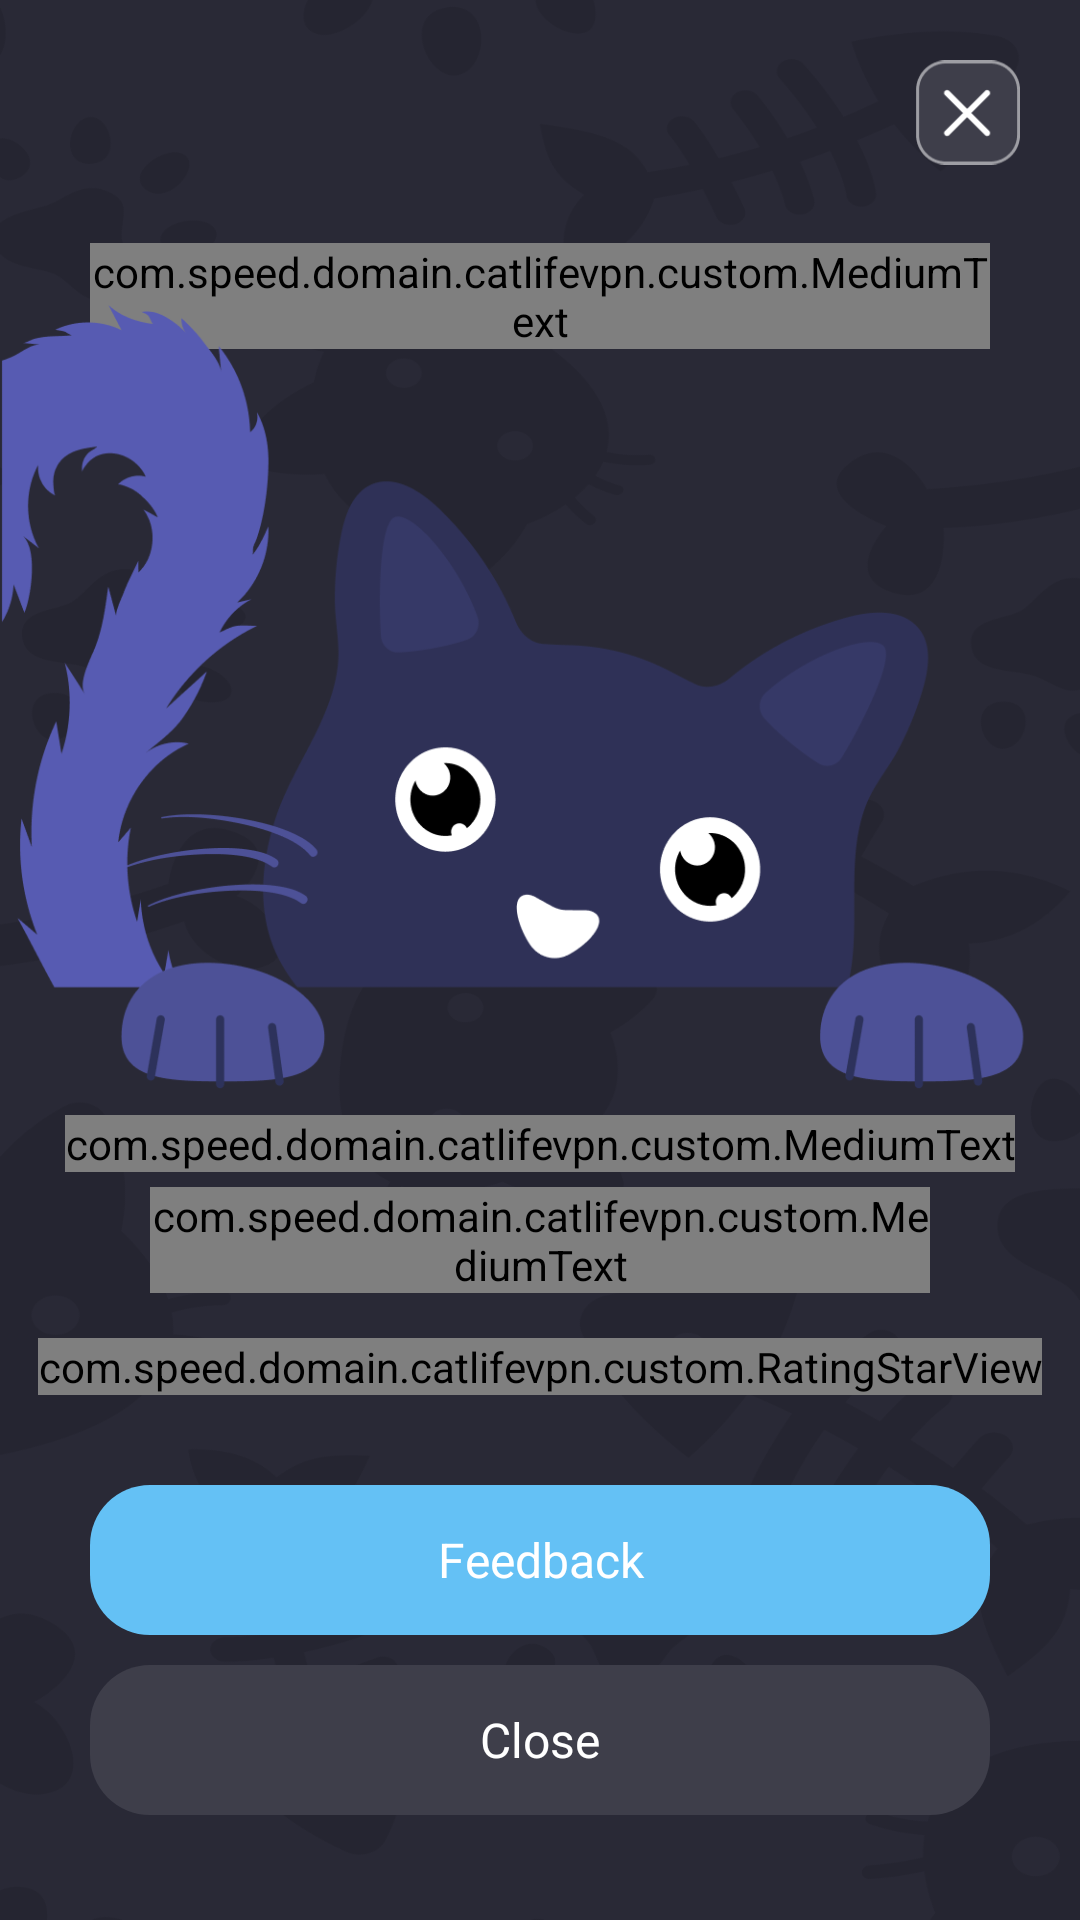

Icons on this 1080px x 1920px Android screen, each with its box as (x1, y1, x2, y2):
close: (916, 60, 1020, 165)
